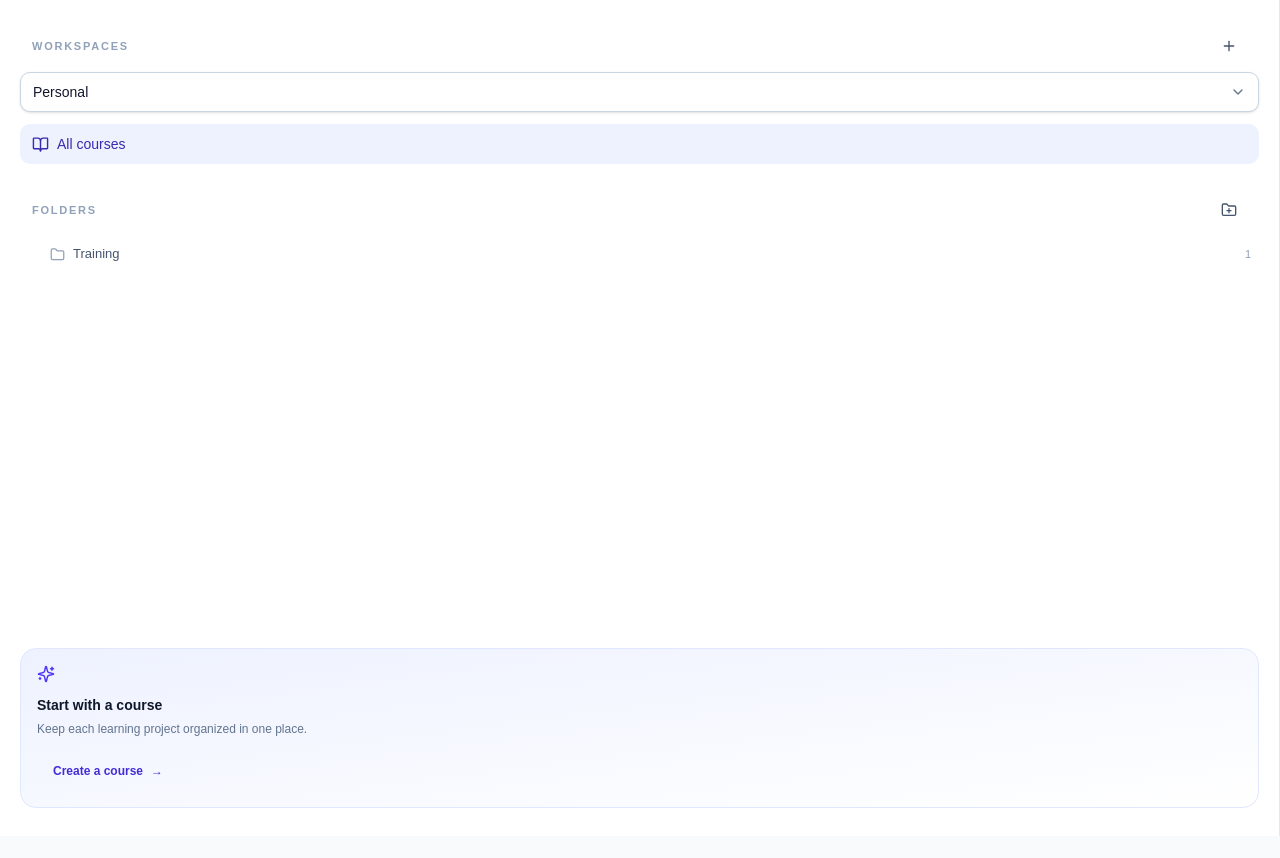
dashboard loading and shared controls › opens workspace creation from Personal without loading a team roster
Step 1. Click the button named "Create team workspace" → x=1229, y=46, box top-left (1211, 28), bottom-right (1247, 64)
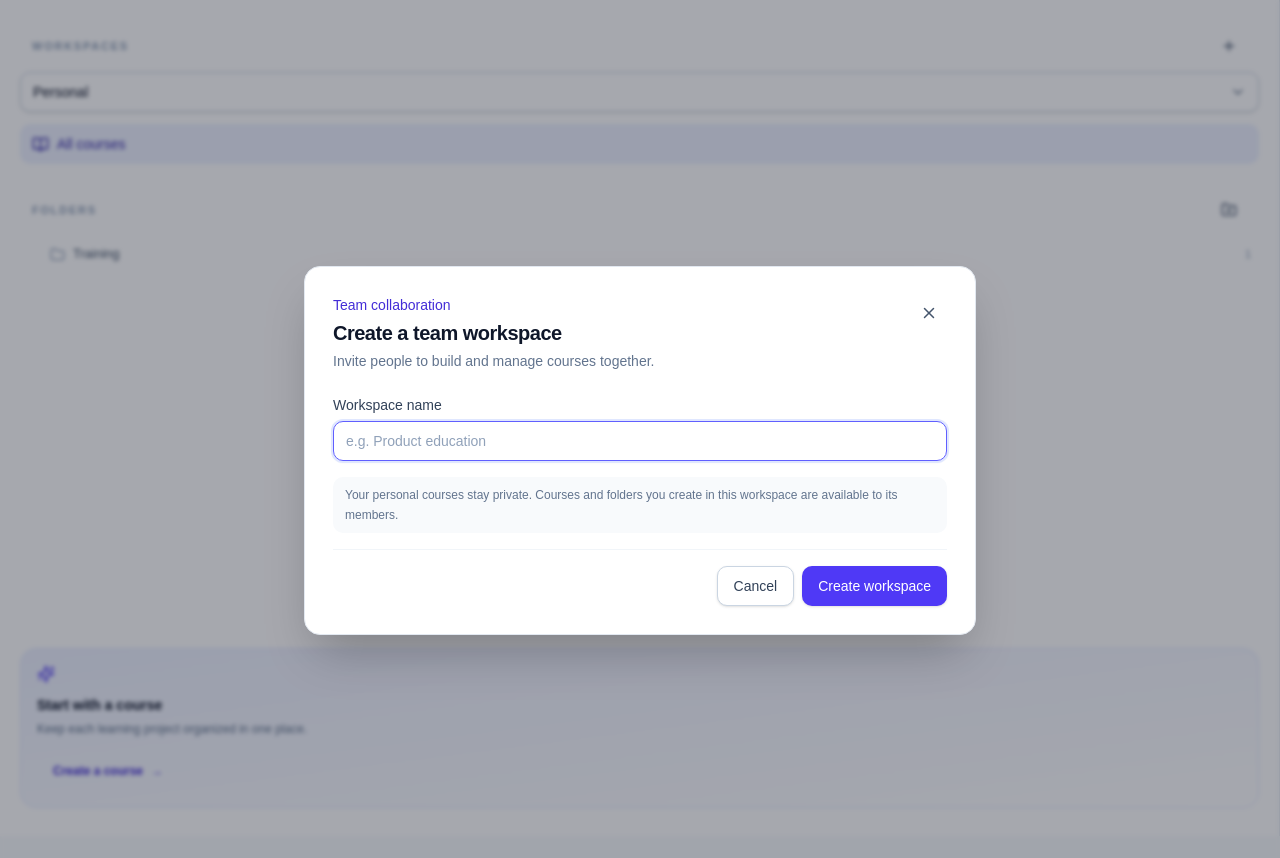
Expected: the heading "Create a team workspace" is shown, top-left (333, 322), bottom-right (562, 344)
